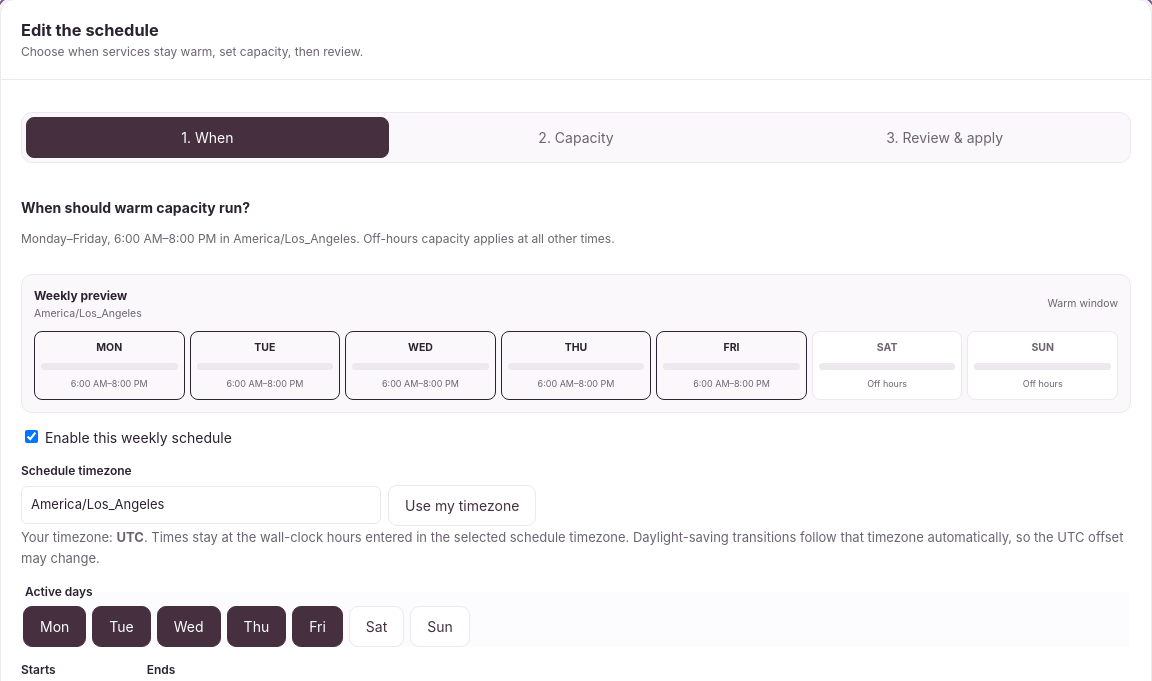
Scenario: capacity schedule timezone controls › distinguishes the browser timezone from the schedule timezone and switches in one click
(page scrolled)
Expected: the field with id "cap-tz" holds "America/Los_Angeles", x1=21 y1=486 x2=381 y2=524
What coordinates should you click on to do the following:
click the button "Use my timezone"
I would click on:
 (462, 505)
Its box is x1=388 y1=485 x2=536 y2=526.
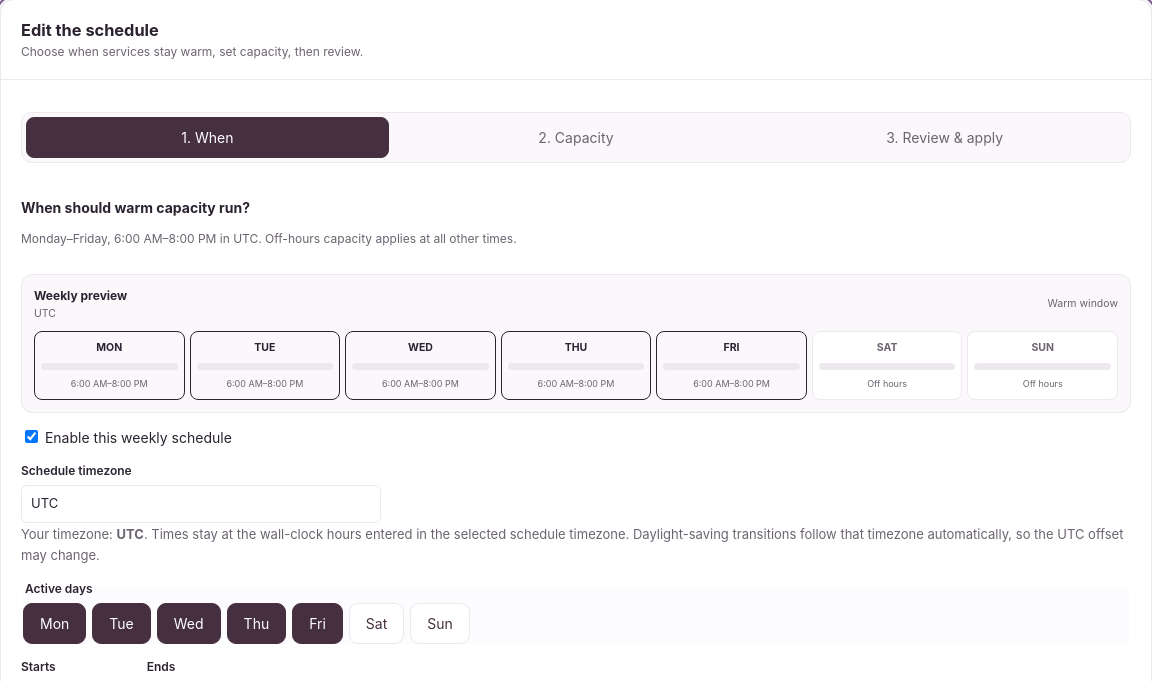
Expected: the field with id "cap-tz" holds "UTC", x1=21 y1=485 x2=381 y2=523
